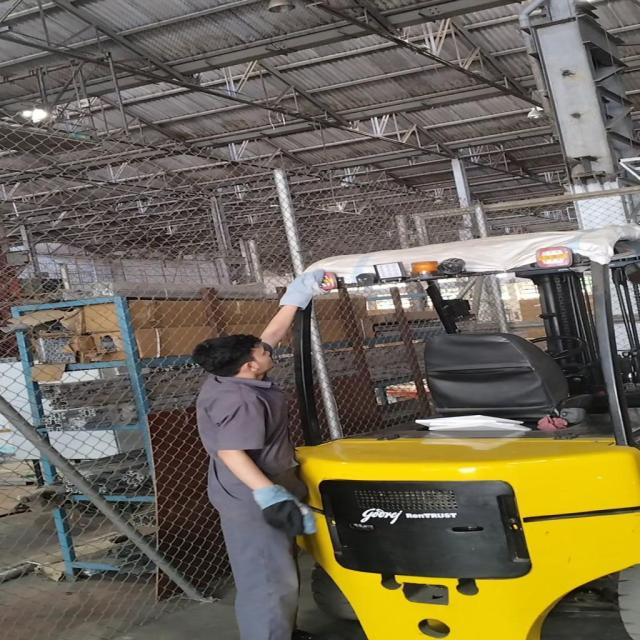Gloves-Detection: (245, 480, 314, 538), (270, 269, 330, 313)
